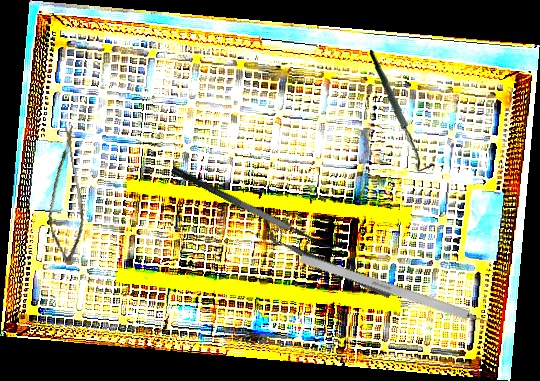Fixation Ring: (266, 222, 397, 300)
Hook Surgical: (299, 253, 507, 333), (361, 49, 442, 173)
Micro Scissor: (31, 121, 99, 268)
Spatula Surgical: (169, 151, 343, 260)
